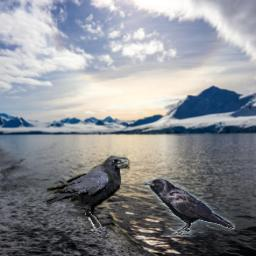Crow: (47, 157, 130, 238), (144, 179, 235, 238)
